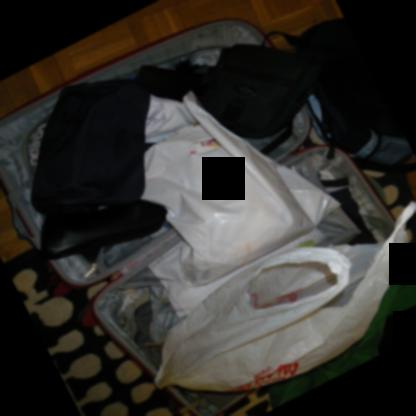backpack: (291, 18, 416, 167)
handbag: (134, 43, 319, 138)
suitcase: (0, 20, 395, 416)
